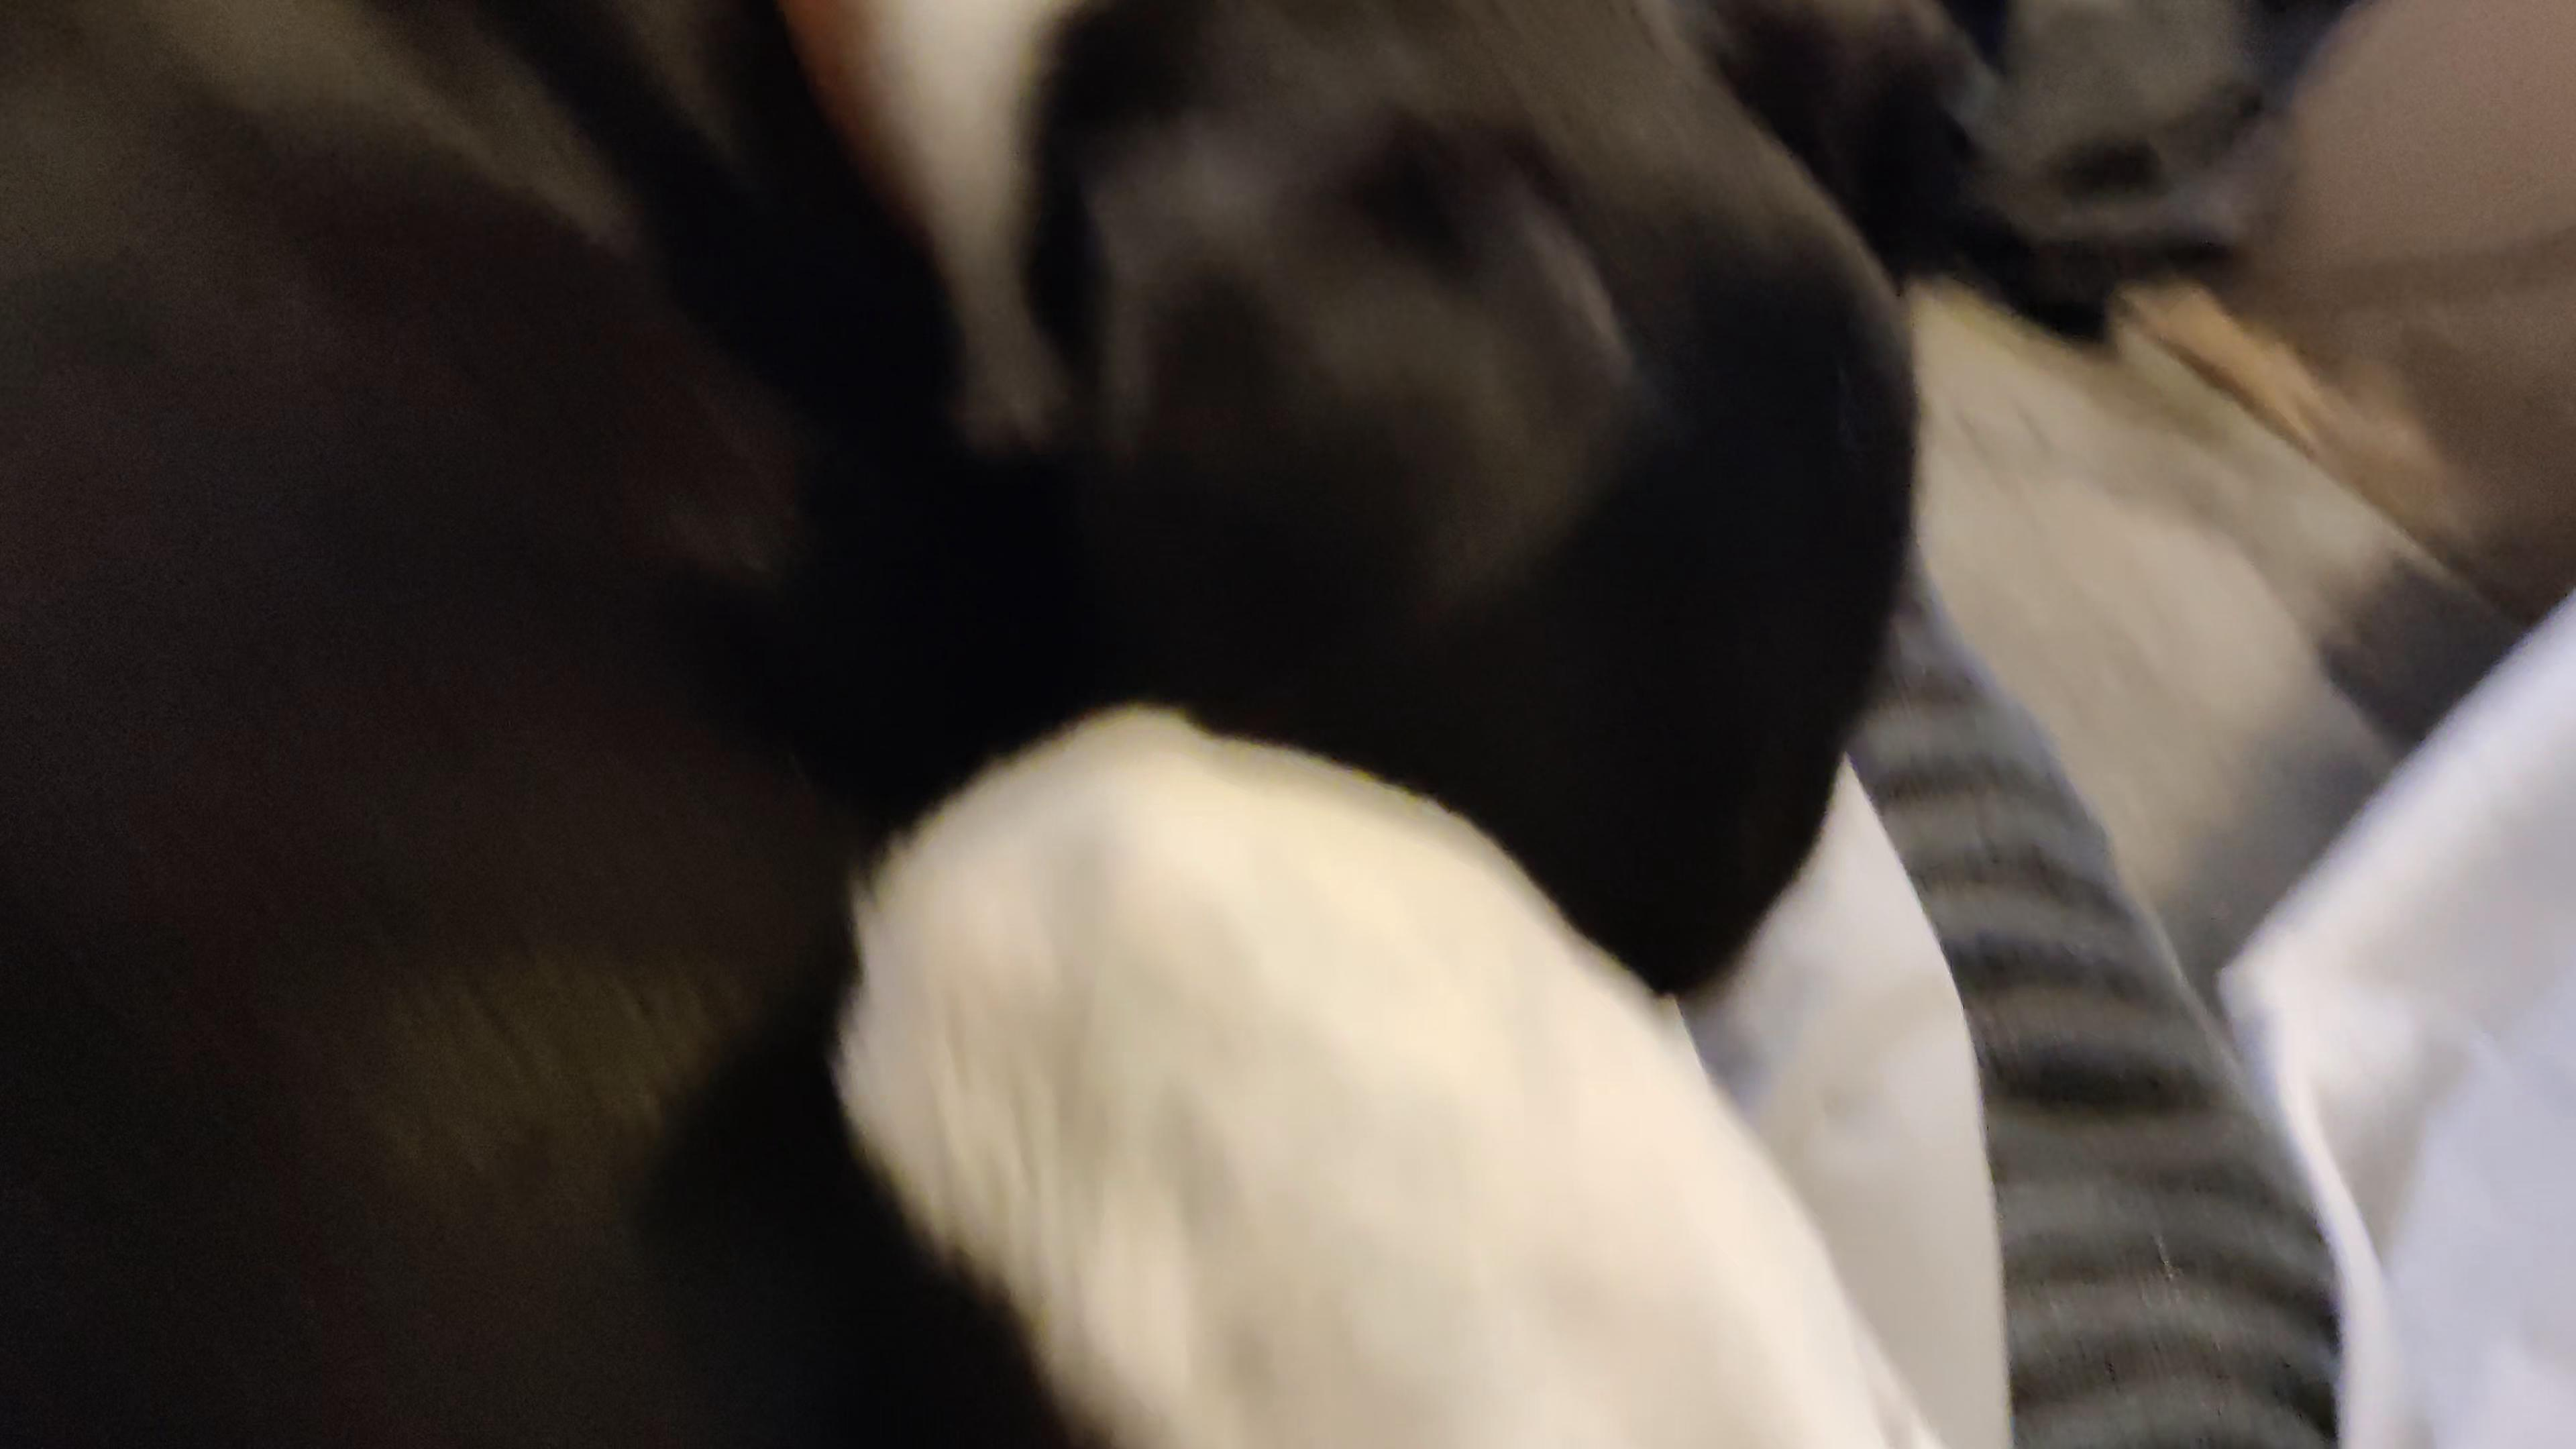Dog: (0, 0, 2049, 1449)
